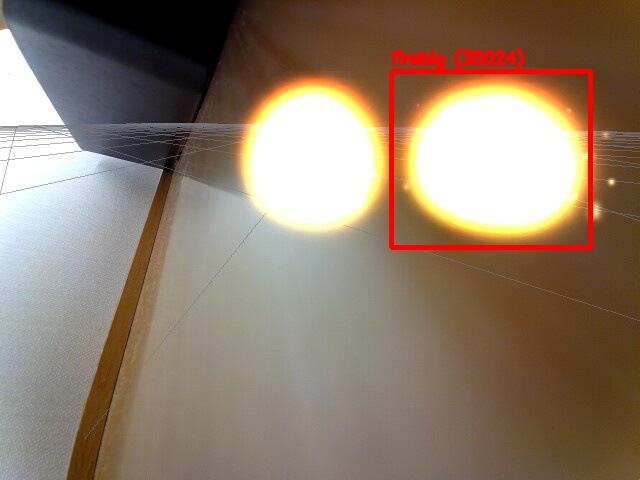firebig: (391, 71, 590, 247)
